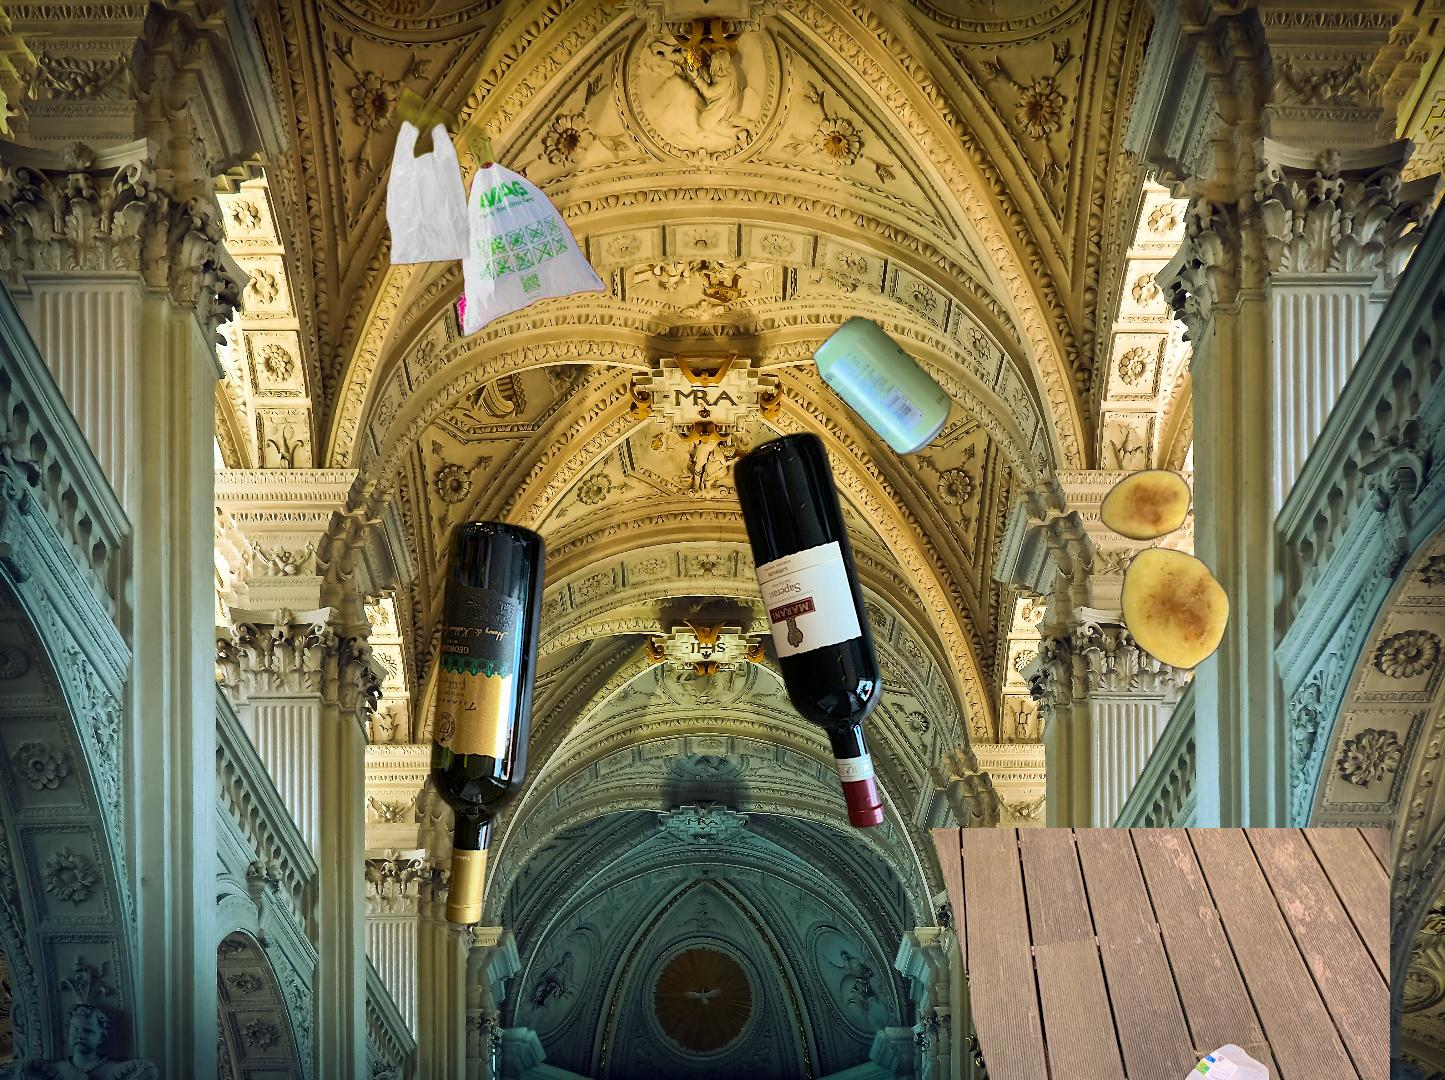biological: (1098, 469, 1233, 672)
glass: (425, 427, 888, 931)
metal-cans: (808, 310, 956, 462)
plastic-bag: (366, 81, 608, 341)
plastic-bottles: (878, 828, 1391, 1080)
